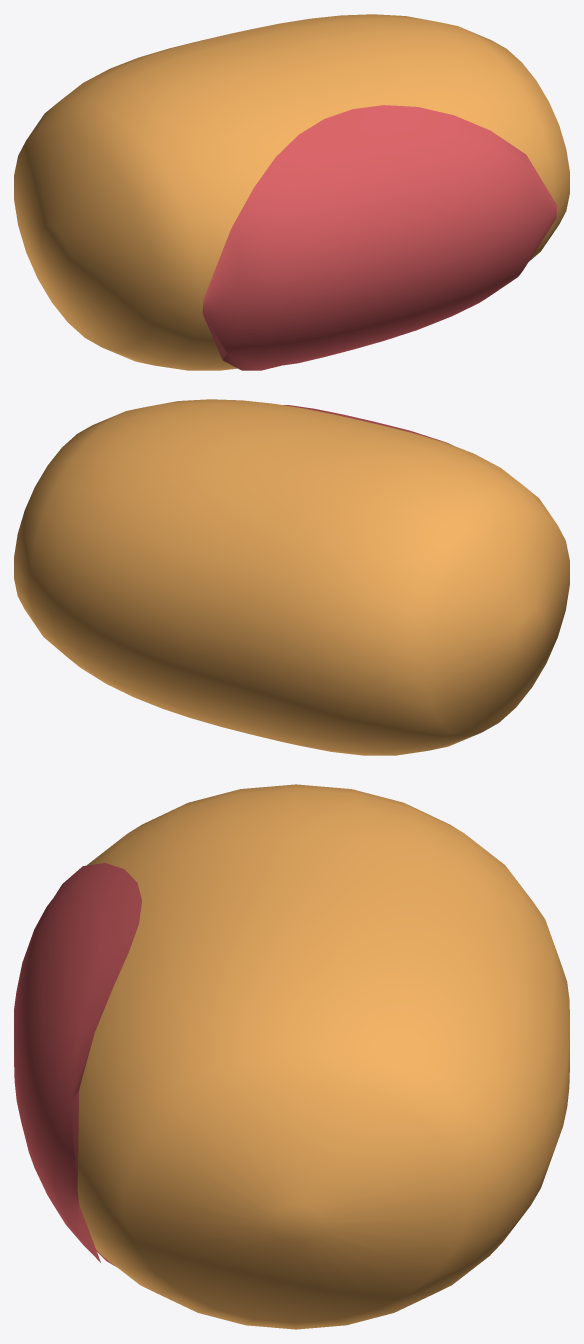
The picture shows the model from 3 angles, top to bottom: view 1: azimuth 30°, elevation 25°; view 2: azimuth 150°, elevation 25°; view 3: azimuth 270°, elevation 25°; orthographic projection. The views are drawn at different scales.
Visible parts, largest first — view 1: mango; view 2: mango; view 3: mango.
Part boxes in pixels (x1,y1,x2,y2): mango: (14, 14, 569, 370); mango: (14, 399, 569, 755); mango: (14, 784, 569, 1329).
Bounding box in the file's own units: 0.115 × 0.0638 × 0.0846.
